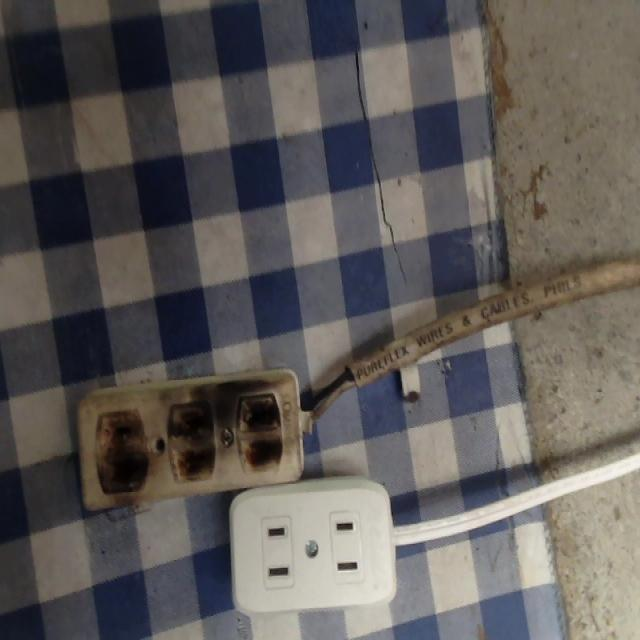-: (93, 405, 152, 496), (166, 397, 218, 488), (233, 386, 285, 474)
